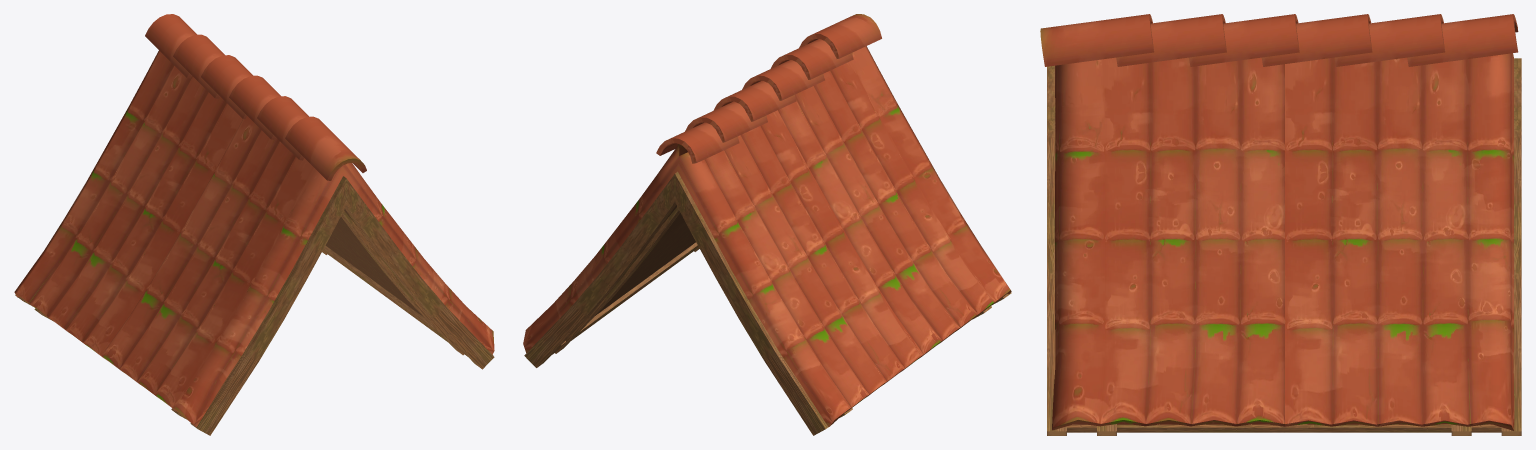
The model's file is Roof_RoundTiles_4x4.glb.
The picture shows the model from 3 angles, left to right: view 1: azimuth 30°, elevation 25°; view 2: azimuth 150°, elevation 25°; view 3: azimuth 270°, elevation 25°; orthographic projection. The views are drawn at different scales.
Parts seen in each view (by area): view 1: Roof_RoundTiles_4x4; view 2: Roof_RoundTiles_4x4; view 3: Roof_RoundTiles_4x4.
Boxes of the visible parts, x1,y1,x2,y2 form: Roof_RoundTiles_4x4: [14, 14, 494, 435]; Roof_RoundTiles_4x4: [523, 14, 1011, 435]; Roof_RoundTiles_4x4: [1040, 14, 1521, 435].
Size of the model in its own units: 5.51 by 4.25 by 5.56.
2 materials, 2 textured.
